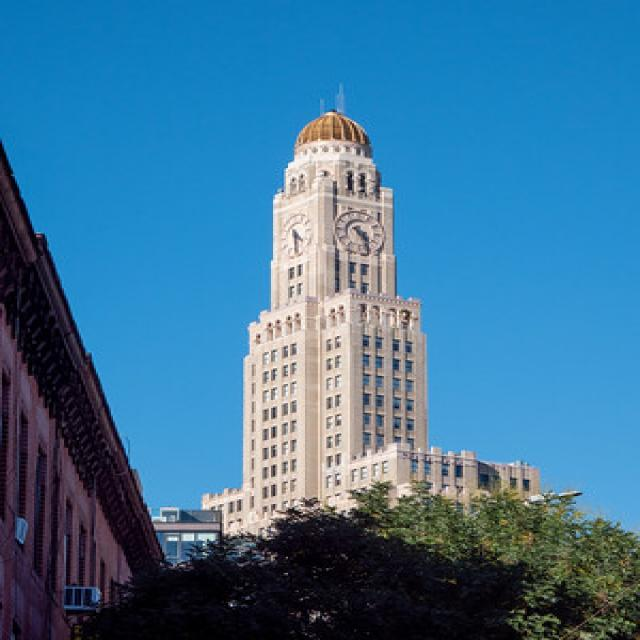Normal_building: (232, 100, 438, 537)
